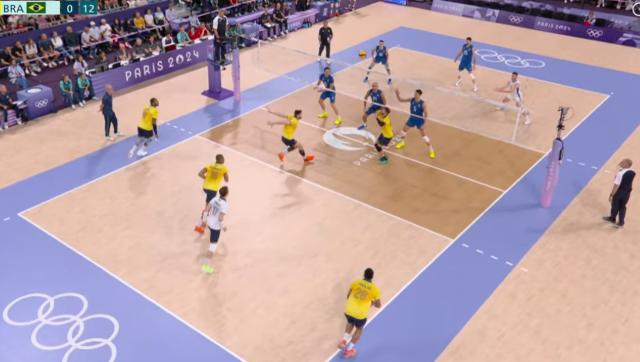Levantador: (374, 106, 394, 166)
Libero: (196, 184, 232, 274), (502, 71, 524, 109)
bola: (359, 51, 366, 59)
